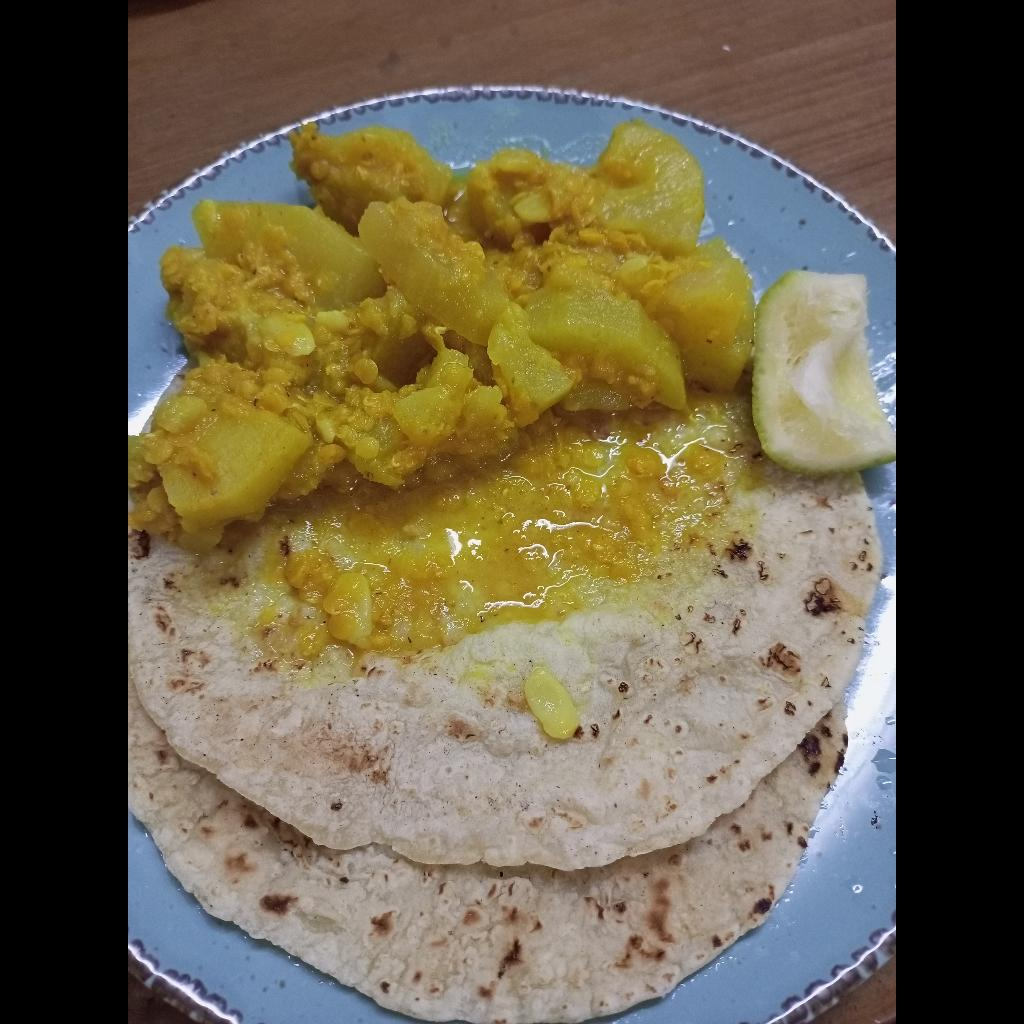lau: (128, 114, 758, 541)
lemon: (748, 266, 896, 472)
ruti: (128, 396, 890, 1024)
